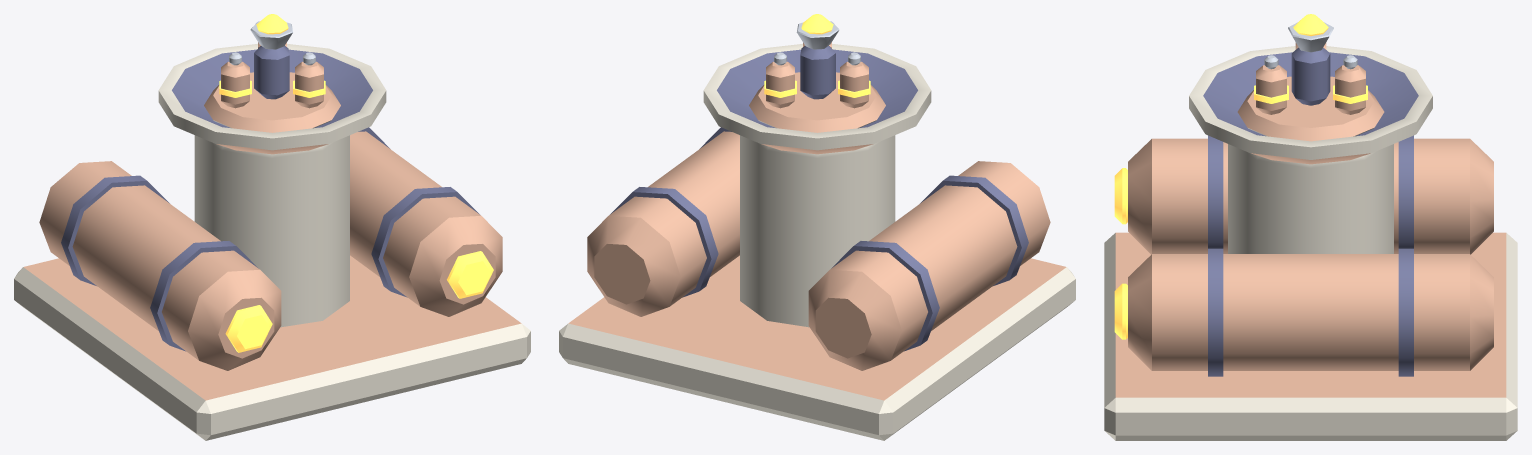
Rendered from R4X_BurnTrapDeployer_LOD1.fbx.
The picture shows the model from 3 angles, left to right: view 1: azimuth 30°, elevation 25°; view 2: azimuth 150°, elevation 25°; view 3: azimuth 270°, elevation 25°; orthographic projection. The views are drawn at different scales.
Visible parts, largest first — view 1: R4X_BurnTrapDeployer_LOD1; view 2: R4X_BurnTrapDeployer_LOD1; view 3: R4X_BurnTrapDeployer_LOD1.
Boxes of the visible parts, left/top/right/bottom form: R4X_BurnTrapDeployer_LOD1: left=14, top=14, right=530, bottom=440; R4X_BurnTrapDeployer_LOD1: left=559, top=14, right=1075, bottom=440; R4X_BurnTrapDeployer_LOD1: left=1104, top=14, right=1517, bottom=440.
Size of the model in its own units: 0.52 by 0.476 by 0.52.
